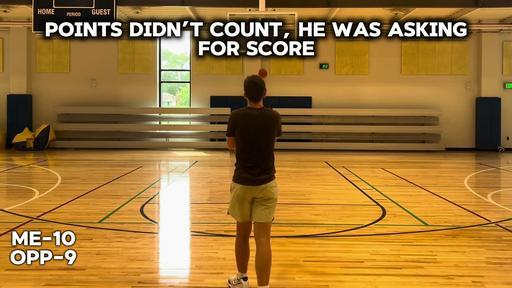ball: (258, 68, 268, 78)
human: (226, 74, 282, 288)
